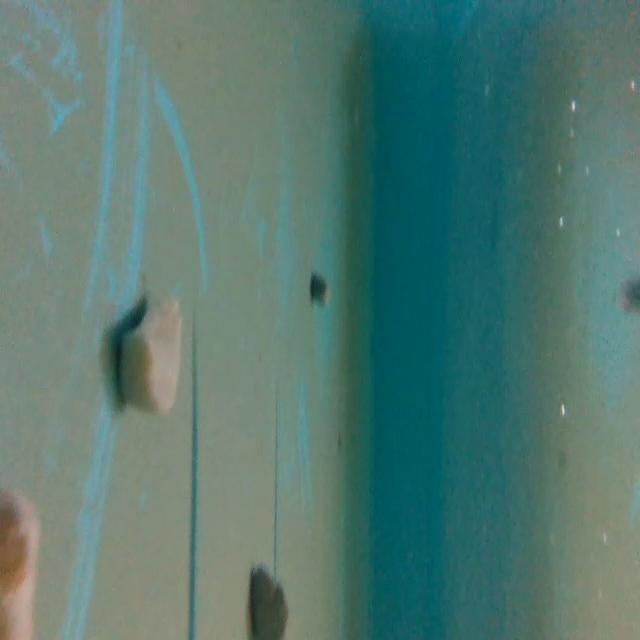rock: (113, 288, 185, 422), (244, 556, 290, 640)
